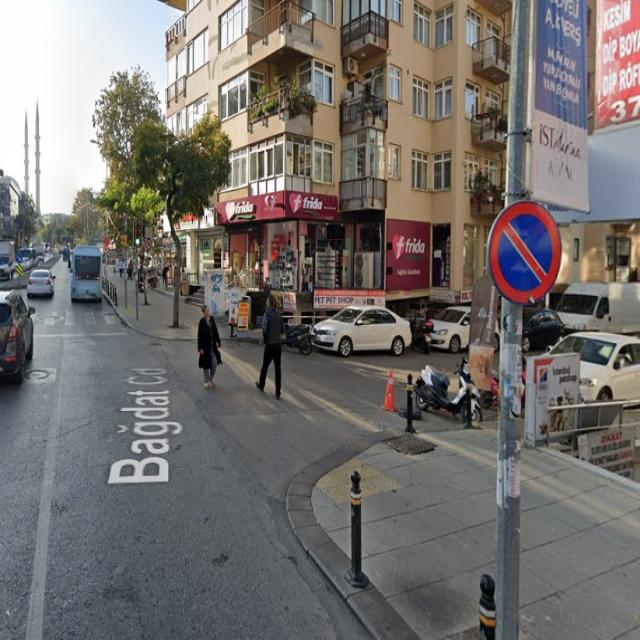parkyasak: (488, 201, 562, 305)
soladonulmez: (146, 240, 153, 250)
yesil: (133, 222, 142, 246)
